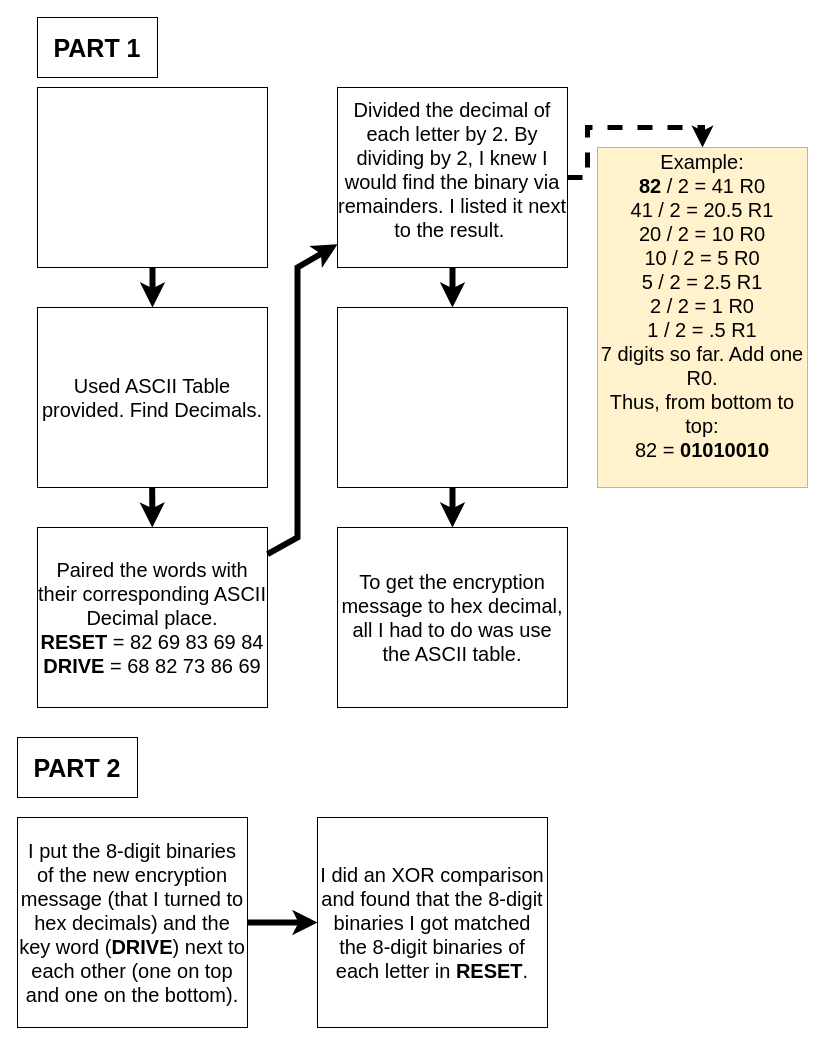
This 825x1045 diagram has some shape labels left out. Here are the shapes that lost their labels. From the top down, the centre of each, then its label:
the point at 152,177: Thought of words to use. Settled on: RESET & DRIVE
the point at 452,397: I put the two words' 8-digit binaries side by side and did an XOR comparison.
